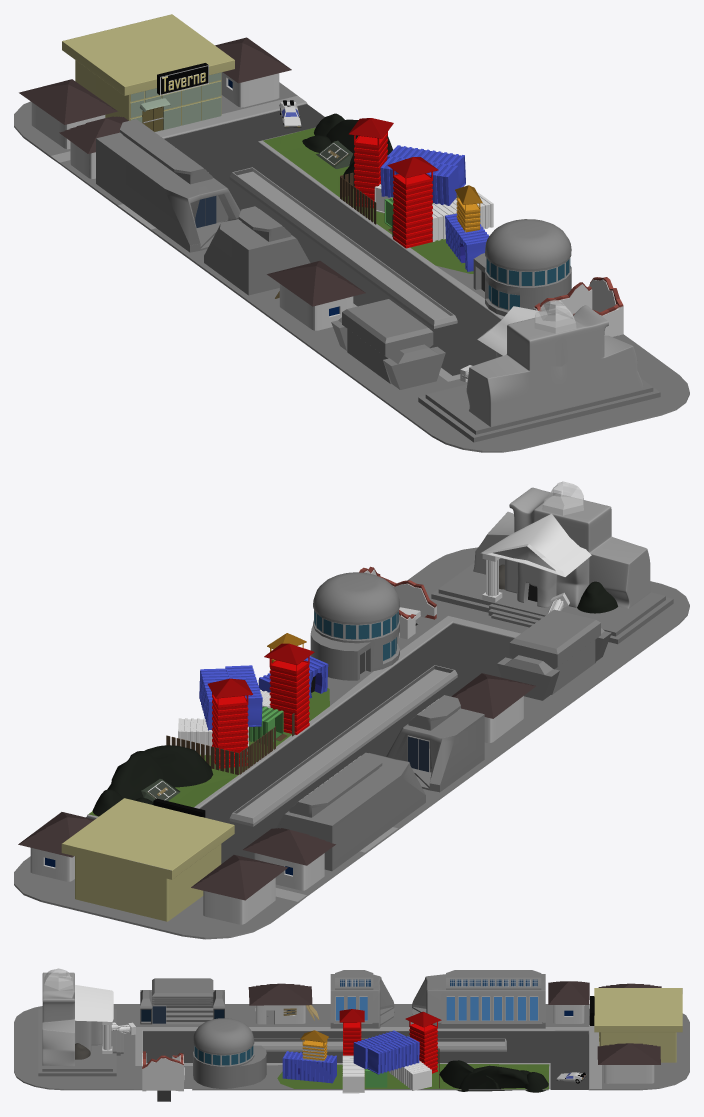
The model's file is StreetRemake.fbx.
3 renders of one model, top to bottom at view 1: azimuth 30°, elevation 25°; view 2: azimuth 150°, elevation 25°; view 3: azimuth 270°, elevation 25°, orthographic. The views are drawn at different scales.
Visible parts, largest first — view 1: Street1, TechHQGebäude (×2), polySurface3, TavernenGebäude, TechnoArtefaktLager2, TechnoVerwaltungsStelle1, BibliotheksRuine, AvaUnterSchlupfGebäude, AvaUnterSchlupfGebäude1, AvaUnterSchlupfGebäude2, pCube26, AvaUnterSchlupfGebäude3 (+14 smaller); view 2: Street1, TechHQGebäude (×2), TavernenGebäude, polySurface3, TechnoVerwaltungsStelle1, TechnoArtefaktLager2, BibliotheksRuine, AvaUnterSchlupfGebäude1, pCube14, AvaUnterSchlupfGebäude3, AvaUnterSchlupfGebäude, AvaUnterSchlupfGebäude2 (+13 smaller); view 3: Street1, TechHQGebäude (×2), TavernenGebäude, TechnoVerwaltungsStelle1, polySurface3, TechnoArtefaktLager2, AvaUnterSchlupfGebäude2, AvaUnterSchlupfGebäude, BibliotheksRuine, AvaUnterSchlupfGebäude3, pCube65, pCube22 (+29 smaller).
Part boxes in pixels (<box>): Street1: <box>14,82,689,452</box>; TechHQGebäude (×2): <box>96,119,310,295</box>; polySurface3: <box>466,305,643,426</box>; TavernenGebäude: <box>62,14,234,131</box>; TechnoArtefaktLager2: <box>331,299,445,389</box>; TechnoVerwaltungsStelle1: <box>473,219,571,316</box>; BibliotheksRuine: <box>418,378,660,442</box>; AvaUnterSchlupfGebäude: <box>267,261,365,330</box>; AvaUnterSchlupfGebäude1: <box>19,79,117,149</box>; AvaUnterSchlupfGebäude2: <box>215,37,291,107</box>; pCube26: <box>393,170,432,248</box>; AvaUnterSchlupfGebäude3: <box>59,116,128,178</box>; Street1: <box>14,547,689,939</box>; TechHQGebäude (×2): <box>276,695,484,871</box>; TavernenGebäude: <box>61,798,234,921</box>; polySurface3: <box>473,487,650,608</box>; TechnoVerwaltungsStelle1: <box>310,572,399,680</box>; TechnoArtefaktLager2: <box>497,609,611,700</box>; BibliotheksRuine: <box>431,562,673,644</box>; AvaUnterSchlupfGebäude1: <box>191,855,288,924</box>; pCube14: <box>481,513,591,576</box>; AvaUnterSchlupfGebäude3: <box>243,828,335,890</box>; AvaUnterSchlupfGebäude: <box>451,673,535,742</box>; AvaUnterSchlupfGebäude2: <box>18,812,94,881</box>; Street1: <box>14,1004,689,1101</box>; TechHQGebäude (×2): <box>330,970,545,1028</box>; TavernenGebäude: <box>594,988,682,1062</box>; TechnoVerwaltungsStelle1: <box>193,1018,266,1088</box>; polySurface3: <box>42,972,102,1066</box>; TechnoArtefaktLager2: <box>140,978,224,1024</box>; AvaUnterSchlupfGebäude2: <box>597,1043,660,1083</box>; AvaUnterSchlupfGebäude: <box>248,983,312,1024</box>; BibliotheksRuine: <box>38,1008,123,1076</box>; AvaUnterSchlupfGebäude3: <box>548,981,589,1023</box>; pCube65: <box>367,1036,419,1074</box>; pCube22: <box>282,1051,336,1083</box>.
Size of the model in its own units: 98.29 by 45.59 by 314.
